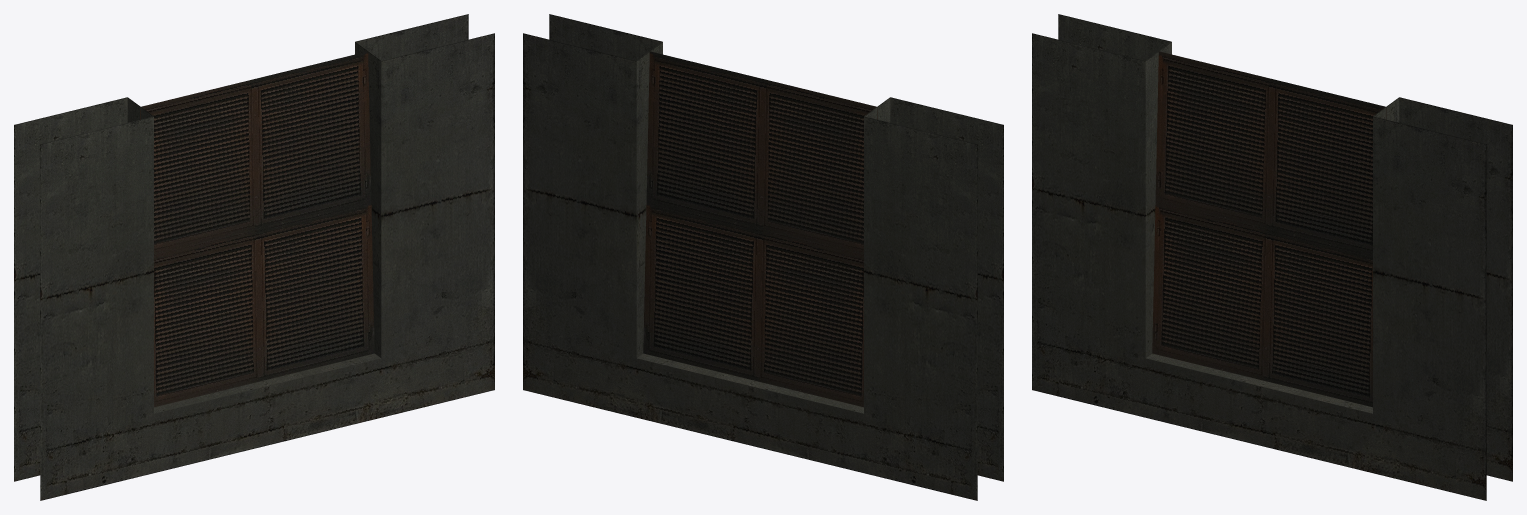
Rendered from wall_rg_1_m_1.glb.
3 renders of one model, left to right at view 1: azimuth 30°, elevation 25°; view 2: azimuth 150°, elevation 25°; view 3: azimuth 330°, elevation 25°, orthographic.
Visible parts, largest first — view 1: wall_rg_1_m_1; view 2: wall_rg_1_m_1; view 3: wall_rg_1_m_1.
Boxes of the visible parts, x1,y1,x2,y2 form: wall_rg_1_m_1: (14, 14, 494, 500); wall_rg_1_m_1: (523, 14, 1003, 500); wall_rg_1_m_1: (1032, 14, 1512, 500).
Bounding box in the file's own units: 4 × 3 × 0.4.
Materials: 2 (2 with a texture image).
